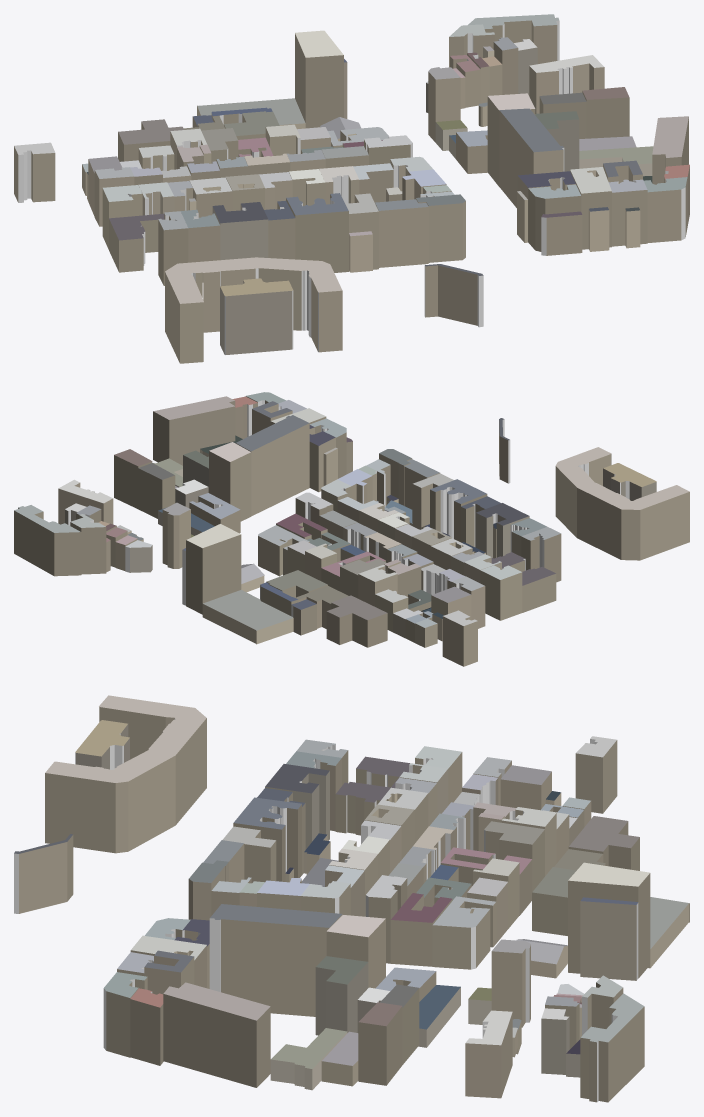
3 renders of one model, top to bottom at view 1: azimuth 30°, elevation 25°; view 2: azimuth 150°, elevation 25°; view 3: azimuth 270°, elevation 25°, orthographic. The views are drawn at different scales.
Visible parts, largest first — view 1: tuile; view 2: tuile; view 3: tuile.
Part boxes in pixels (x1=…): tuile: x1=14, y1=14, x2=689, y2=363; tuile: x1=14, y1=392, x2=689, y2=666; tuile: x1=14, y1=695, x2=689, y2=1102.
Size of the model in its own units: 300 by 40.65 by 255.
